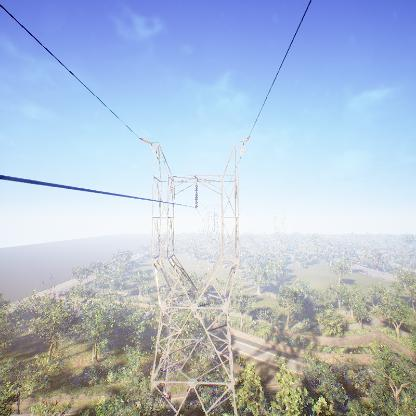tower: (138, 137, 252, 416)
